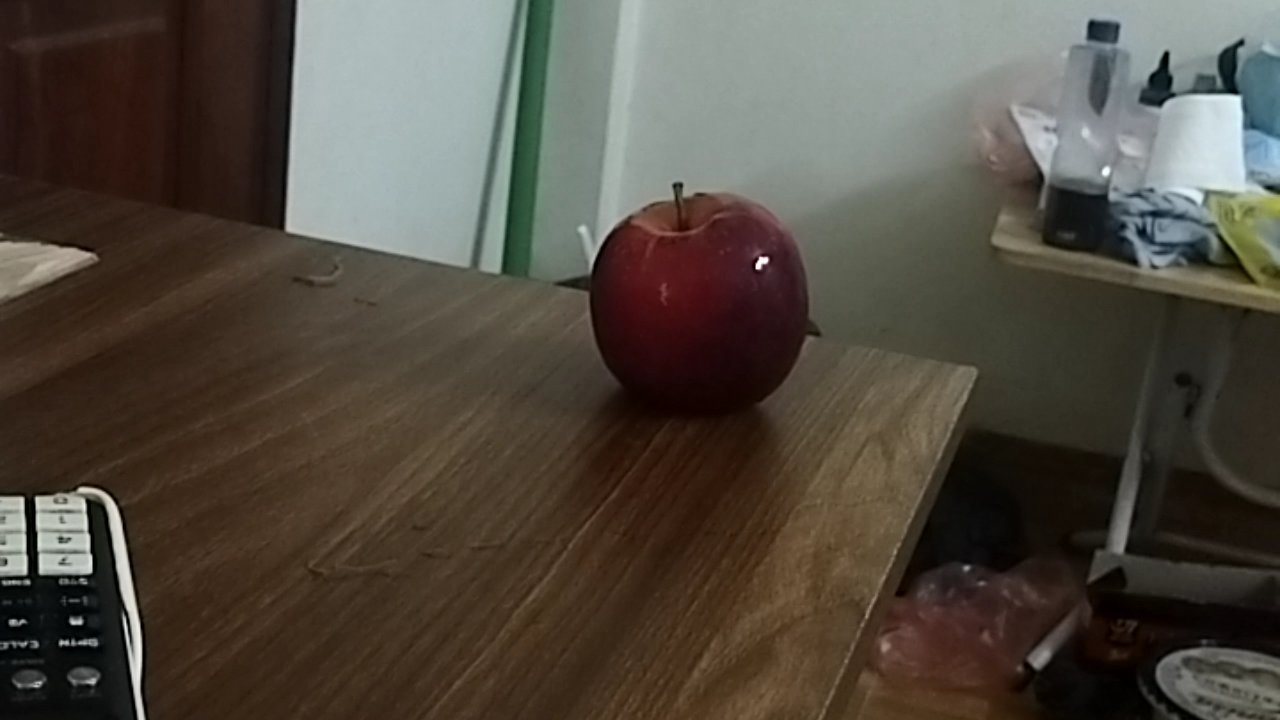apple_rotten: (577, 190, 816, 422)
